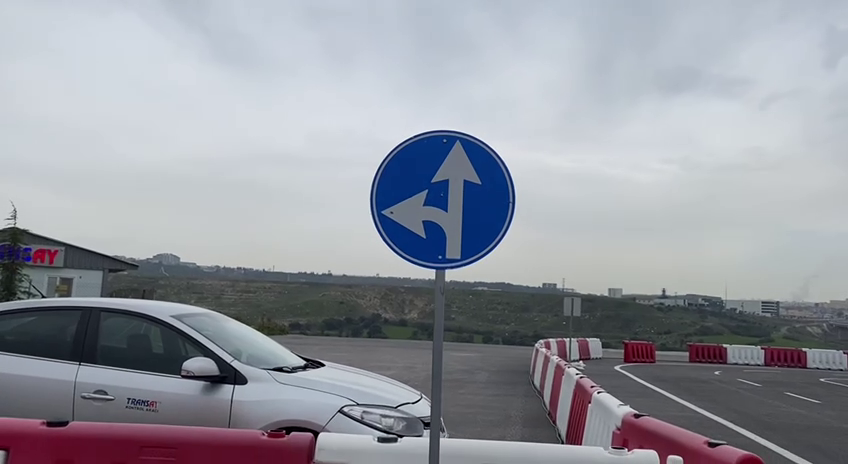forwardAndLeft: (366, 126, 518, 271)
